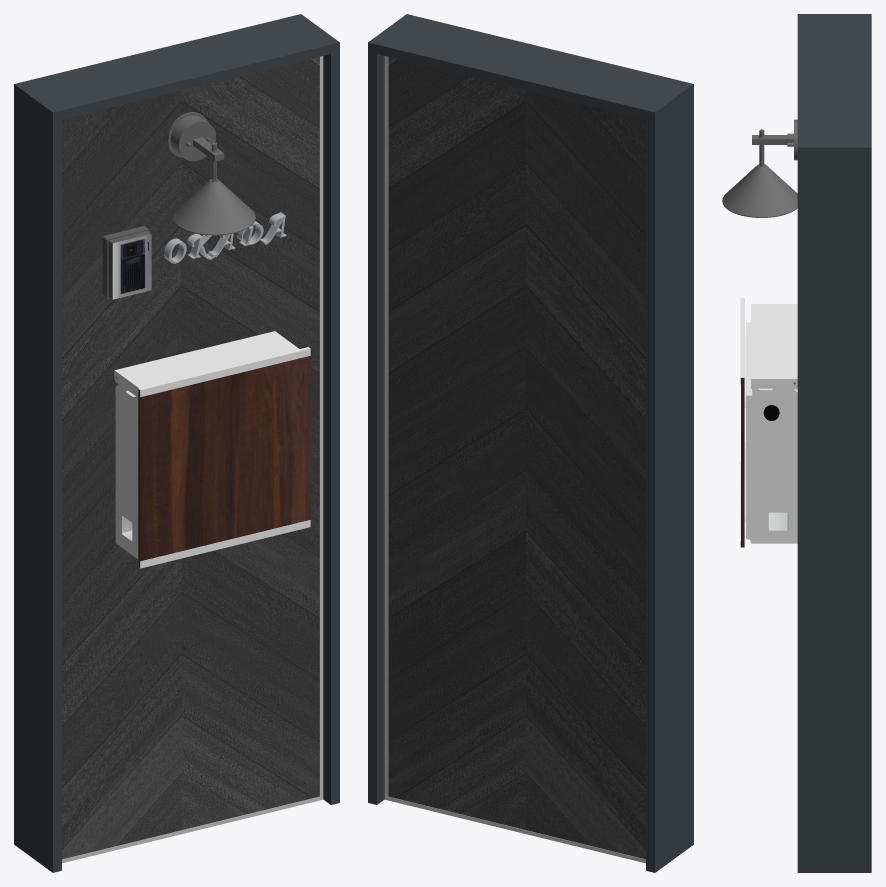
Rendered from 640-1620_herringboneblack.fbx.
3 views of the same model, side by side, from view 1: azimuth 30°, elevation 25°; view 2: azimuth 150°, elevation 25°; view 3: azimuth 270°, elevation 25° (orthographic). The views are drawn at different scales.
Parts seen in each view (by area): view 1: 640-1620_herringboneblack; view 2: 640-1620_herringboneblack; view 3: 640-1620_herringboneblack.
Part boxes in pixels (x1,y1,x2,y2): 640-1620_herringboneblack: (14,14,339,872); 640-1620_herringboneblack: (368,14,693,872); 640-1620_herringboneblack: (722,14,871,872).
Size of the model in its own units: 64 by 162 by 30.22.
14 materials, 5 textured.
